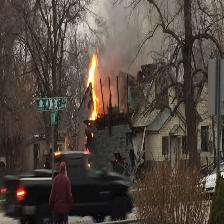fire: (84, 50, 101, 121)
smoke: (103, 1, 160, 70)
